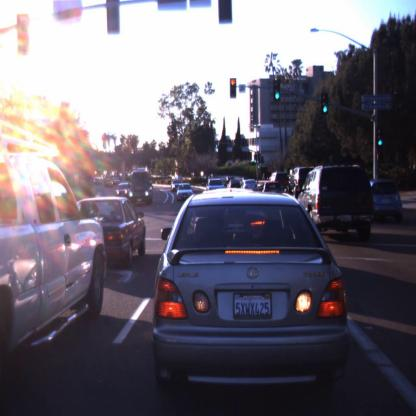trafficlight: (320, 92, 330, 116), (272, 77, 281, 103), (375, 127, 385, 149), (230, 78, 237, 98), (253, 154, 258, 164), (215, 139, 219, 150)
